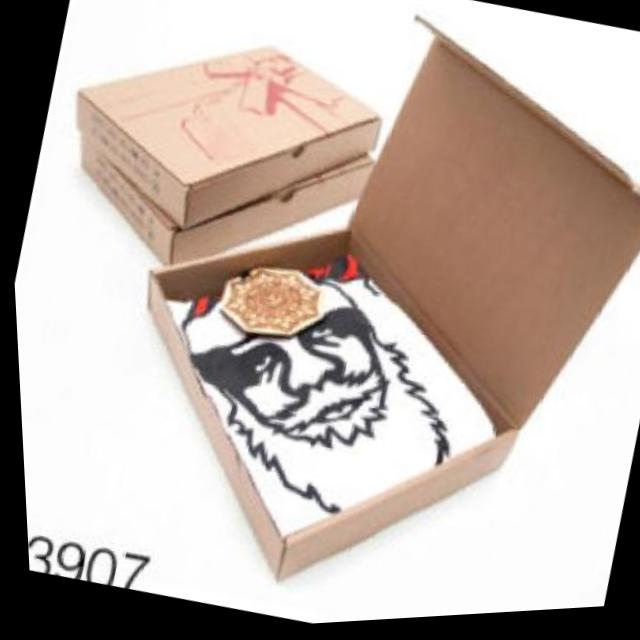box: (64, 0, 640, 637), (38, 0, 412, 281), (36, 92, 408, 367)
